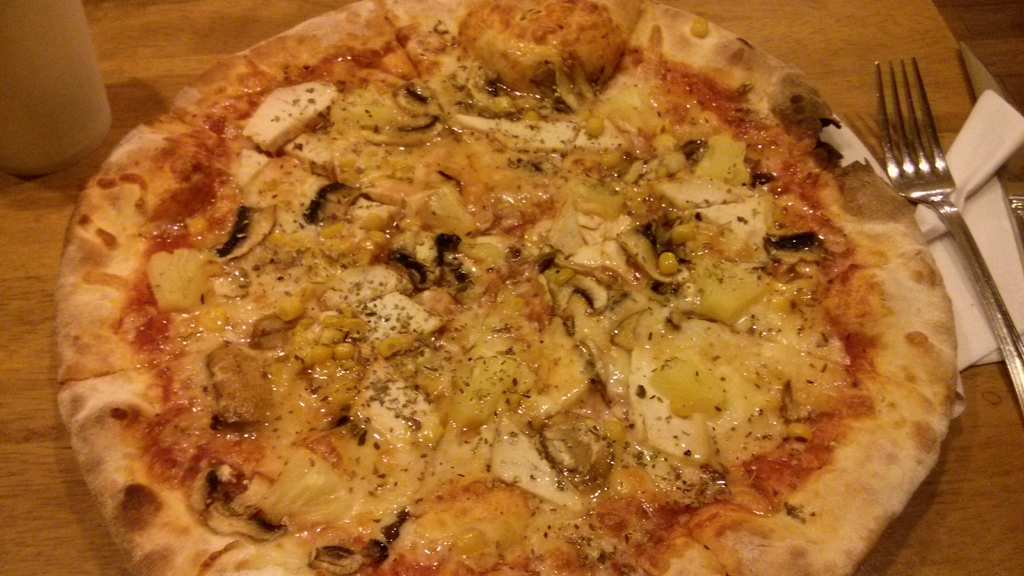Pizza: (51, 1, 956, 575)
